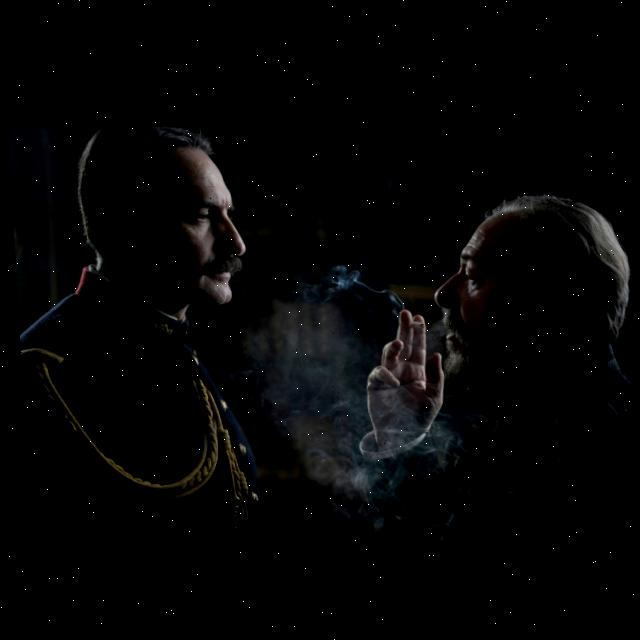cigarette: (409, 317, 421, 323)
